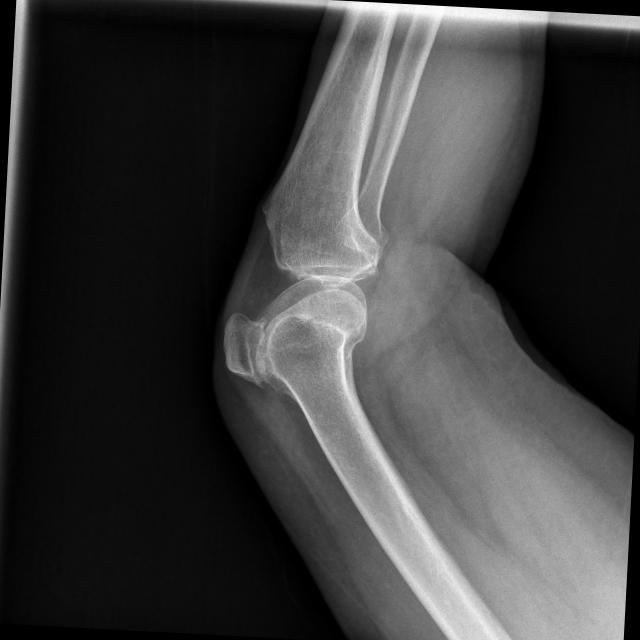Knee: (216, 182, 385, 397)
